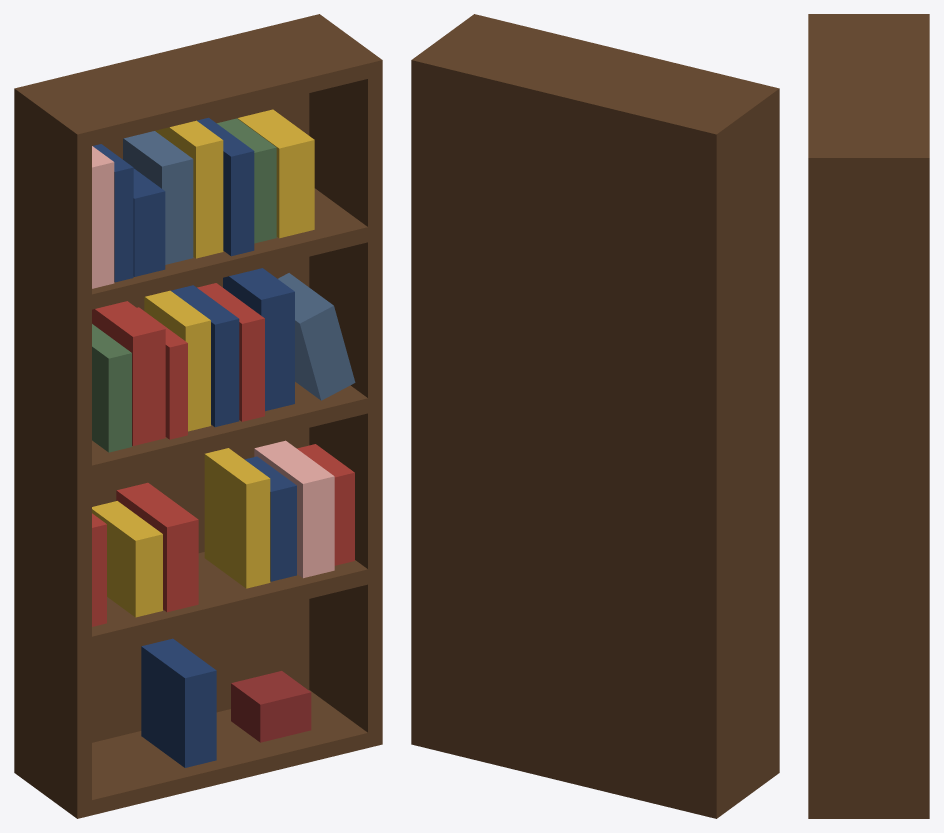
The model's file is GH_Bookcase_05.glb.
The picture shows the model from 3 angles, left to right: view 1: azimuth 30°, elevation 25°; view 2: azimuth 150°, elevation 25°; view 3: azimuth 270°, elevation 25°; orthographic projection. The views are drawn at different scales.
Visible parts, largest first — view 1: GH_Bookcase_05; view 2: GH_Bookcase_05; view 3: GH_Bookcase_05.
Part boxes in pixels (x1,y1,x2,y2): GH_Bookcase_05: (14, 14, 382, 818); GH_Bookcase_05: (411, 14, 779, 818); GH_Bookcase_05: (808, 14, 929, 818).
Bounding box in the file's own units: 0.84 × 1.8 × 0.3.
Materials: 1 (1 with a texture image).
